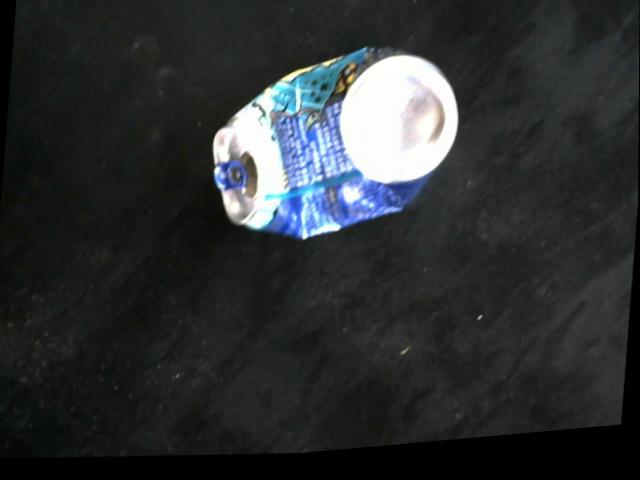can: (208, 53, 457, 251)
